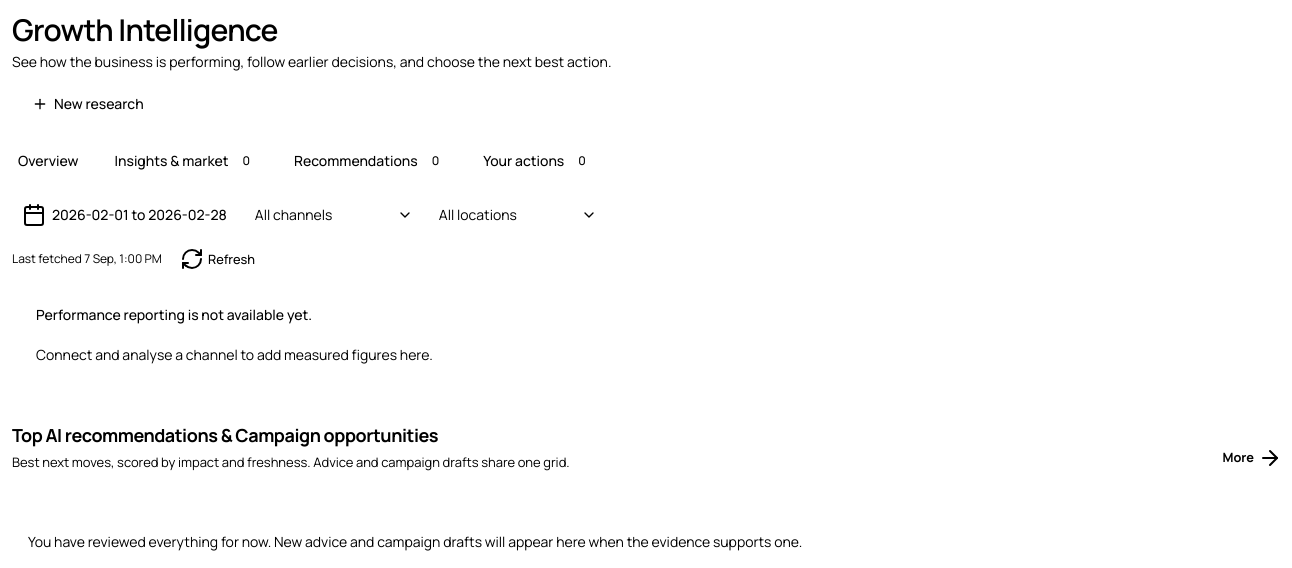
Test: GrowthIntelligenceWorkspace › keeps activity-month navigation inside Your actions
The width and height of the screenshot is (1292, 568).
Click the tab "Your actions 0" at (538, 161), box [477,149,600,173]
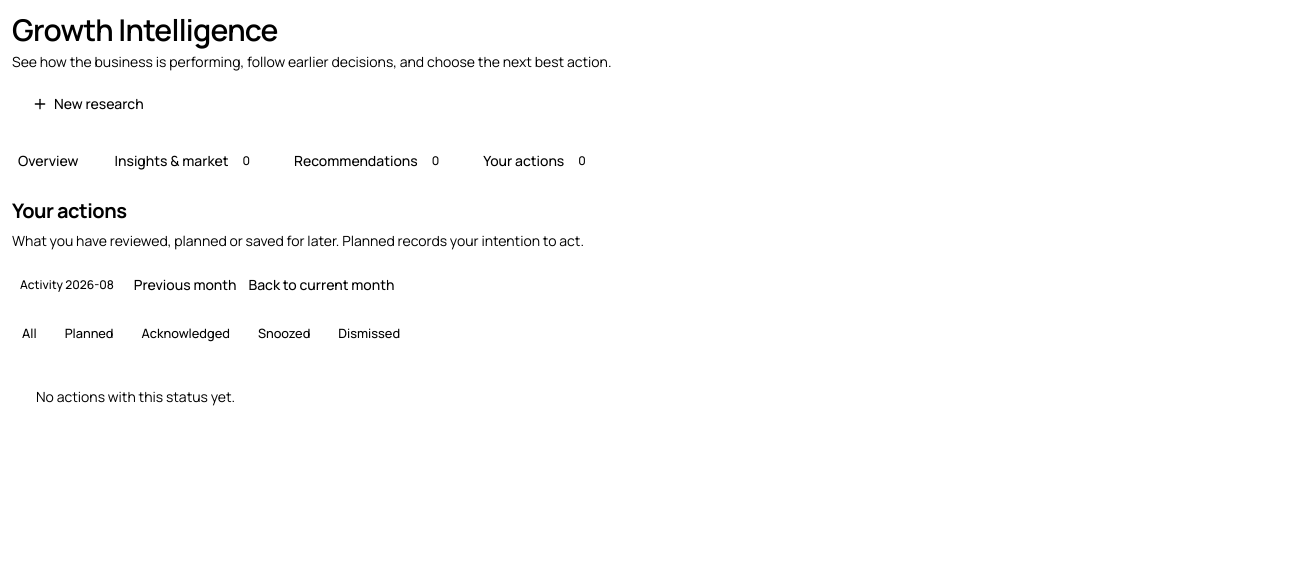
Now the text "Activity 2026-08" is shown, box [12,275,122,295]
